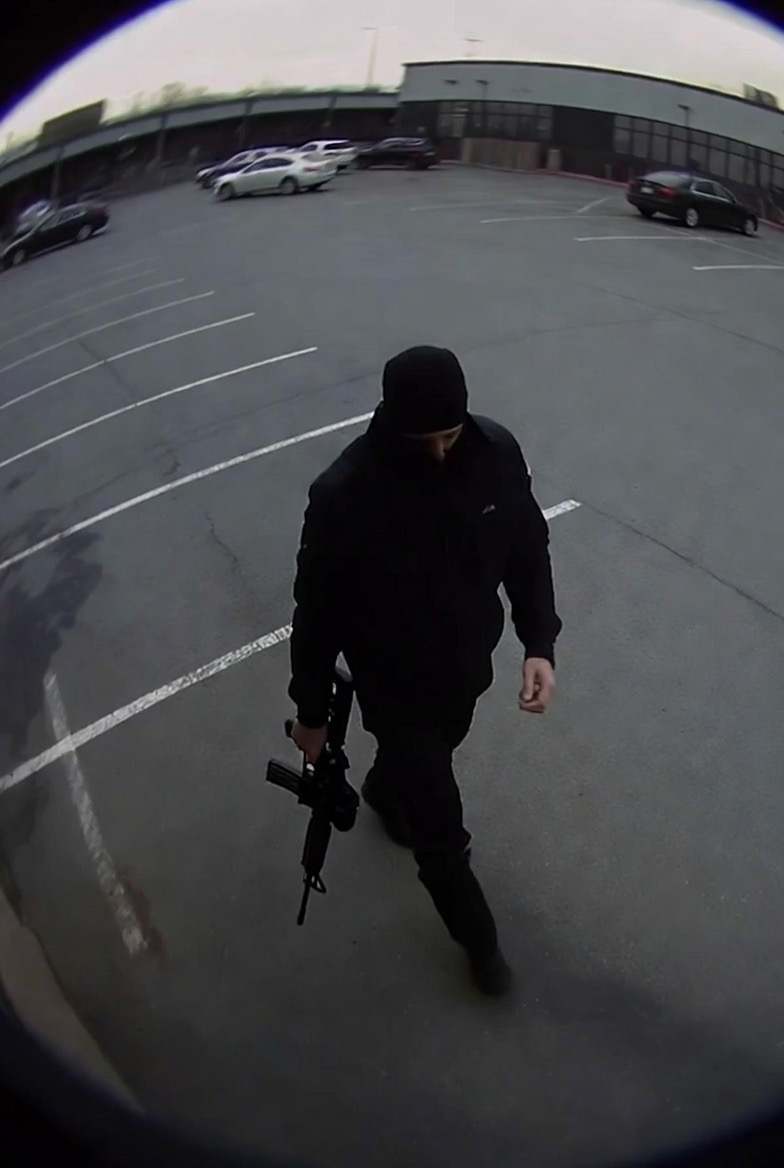person: (288, 345, 563, 997)
weapon: (267, 660, 361, 926)
